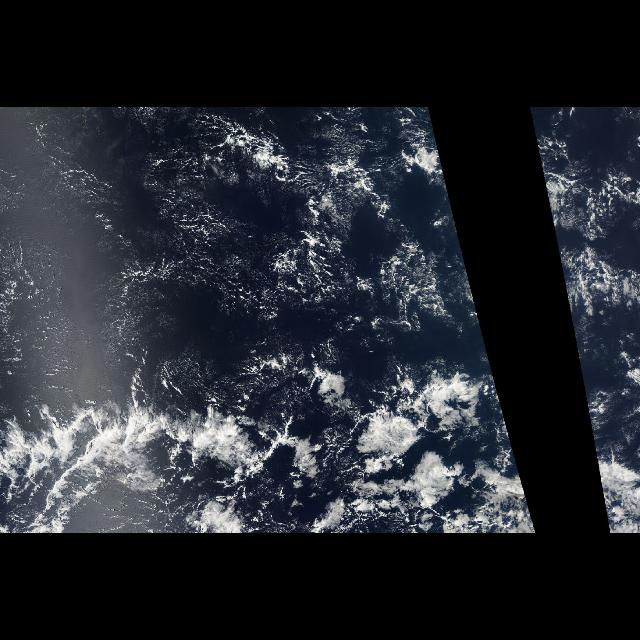Fish: (17, 341, 525, 527)
Gravel: (31, 119, 470, 351)
Sugar: (6, 115, 472, 533)
